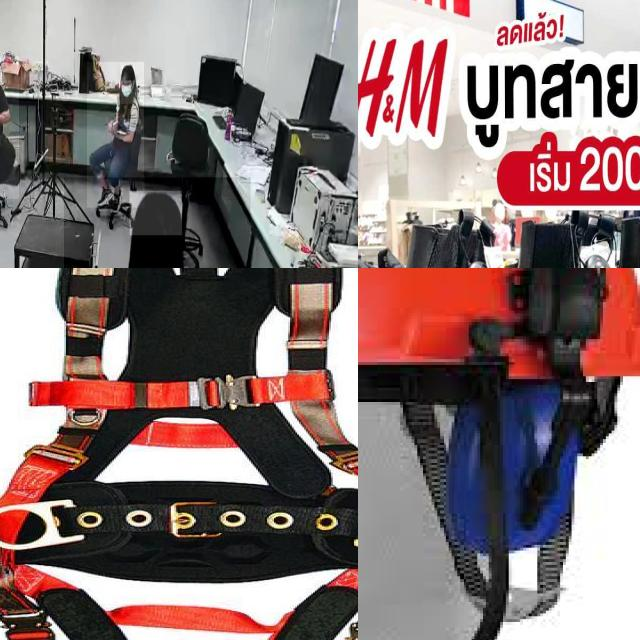Ear-protection: (452, 379, 580, 559)
Harness: (0, 268, 358, 640)
face_mask: (120, 80, 134, 104)
hand_noglove: (106, 118, 115, 135)
head_helmet: (358, 268, 640, 382)
head_nohelmet: (130, 191, 182, 236), (120, 62, 136, 80)
person: (64, 177, 251, 268), (87, 62, 145, 208), (0, 56, 19, 199)
shoes: (110, 186, 126, 213), (96, 185, 114, 208)
